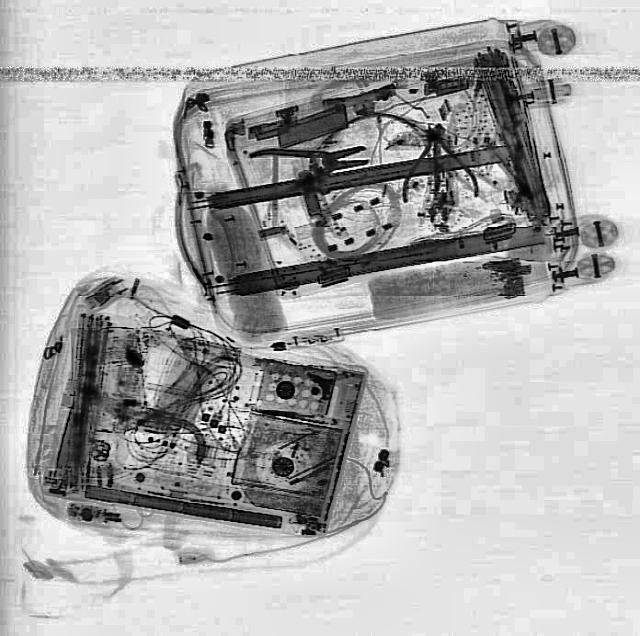Pliers: (246, 131, 372, 201), (396, 121, 478, 203)
